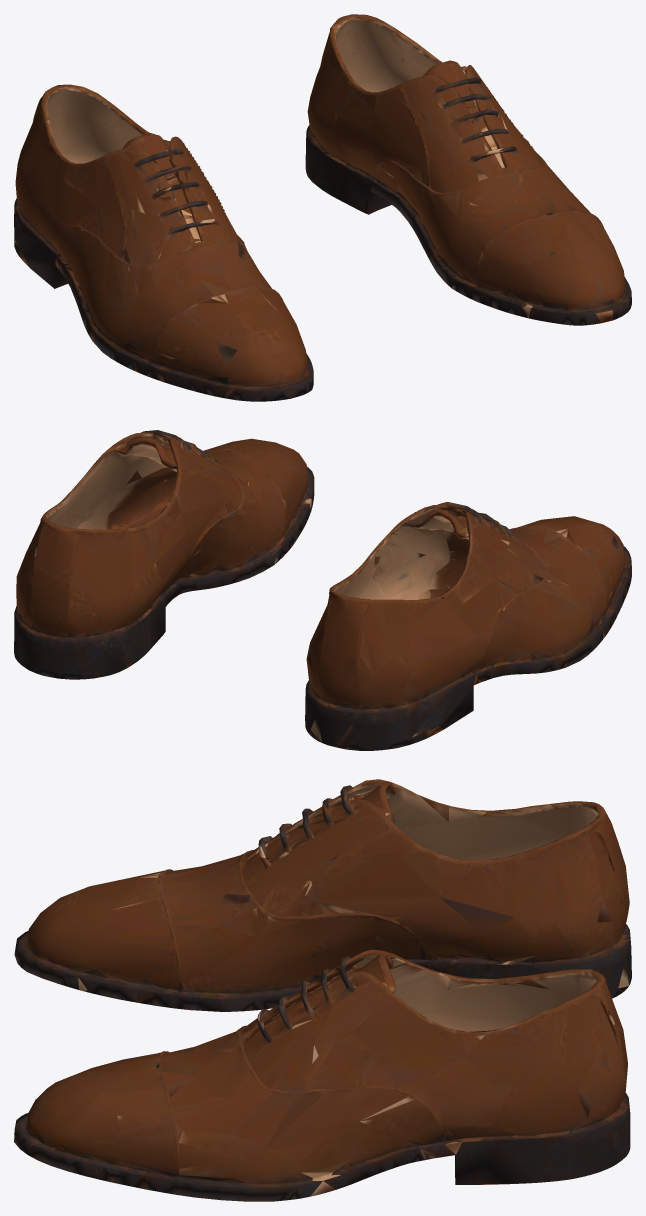
Rendered from shoes_oxfords.glb.
The picture shows the model from 3 angles, top to bottom: view 1: azimuth 30°, elevation 25°; view 2: azimuth 150°, elevation 25°; view 3: azimuth 270°, elevation 25°; orthographic projection. The views are drawn at different scales.
Parts seen in each view (by area): view 1: oxfords; view 2: oxfords; view 3: oxfords.
Boxes of the visible parts, x1=… form: oxfords: x1=14, y1=14, x2=631, y2=401; oxfords: x1=14, y1=430, x2=631, y2=750; oxfords: x1=14, y1=779, x2=631, y2=1201.
Bounding box in the file's own units: 0.2945 × 0.0958 × 0.2778.
1 material, 1 textured.
